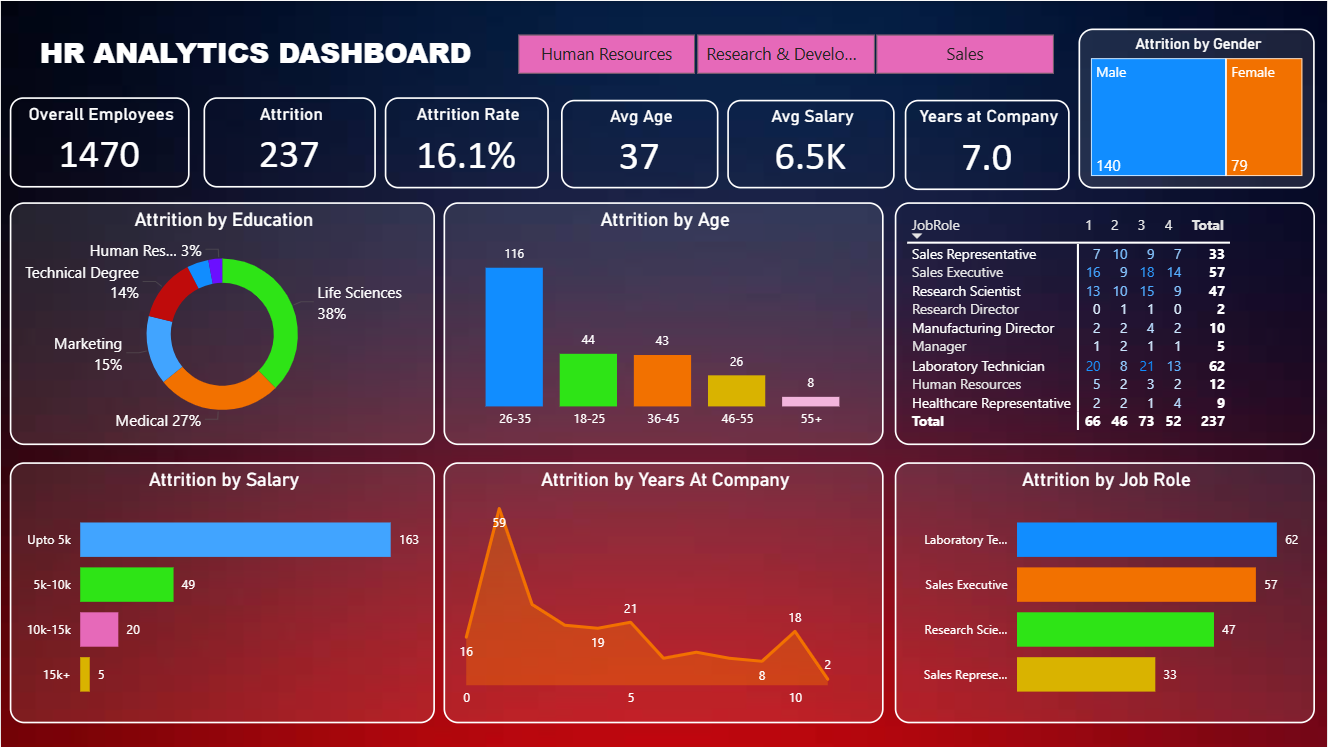

What the dashboard file says about the page in this screenshot:
{"tool":"powerbi","page":{"name":"Page 1","canvas":[1280,720],"ordinal":0},"visuals":[{"type":"card","title":"Overall Employees","fields":{"Values":["CountNonNull(HR_Analytics.EmpID)"]},"box":[8.4,92.9,173.7,86.9],"z":0},{"type":"card","title":"Attrition","fields":{"Values":["Sum(HR_Analytics.AttritionCount)"]},"box":[195.4,92.9,166.5,86.9],"z":1000},{"type":"card","title":"Attrition Rate","fields":{"Values":["HR_Analytics.AttritionRate"]},"box":[370.4,92.9,158,88.1],"z":2000},{"type":"card","title":"Avg Age","fields":{"Values":["Avg(HR_Analytics.Age)"]},"box":[540.5,95.3,152,85.7],"z":3000},{"type":"card","title":"Avg Salary","fields":{"Values":["Avg(HR_Analytics.MonthlyIncome)"]},"box":[700.9,95.3,161.7,85.7],"z":4000},{"type":"card","title":"Years at Company","fields":{"Values":["Avg(HR_Analytics.YearsAtCompany)"]},"box":[872.3,95.3,159.3,86.9],"z":5000},{"type":"pieChart","title":"Attrition by Education","fields":{"Category":["HR_Analytics.EducationField"],"Y":["Sum(HR_Analytics.AttritionCount)"]},"box":[8.4,194.2,410.2,234],"z":6000},{"type":"columnChart","title":"Attrition by Age","fields":{"Category":["HR_Analytics.AgeGroup"],"Y":["Sum(HR_Analytics.AttritionCount)"]},"box":[427.1,194.2,424.7,234],"z":7000},{"type":"pivotTable","fields":{"Rows":["HR_Analytics.JobRole"],"Columns":["HR_Analytics.JobSatisfaction"],"Values":["Sum(HR_Analytics.AttritionCount)"]},"box":[862.6,194.2,405.4,234],"z":8000},{"type":"barChart","title":"Attrition by Salary","fields":{"Category":["HR_Analytics.SalarySlab"],"Y":["Sum(HR_Analytics.AttritionCount)"]},"box":[8.4,445.2,410.2,252.1],"z":9000},{"type":"barChart","title":"Attrition by Job Role","fields":{"Category":["HR_Analytics.JobRole"],"Y":["Sum(HR_Analytics.AttritionCount)"]},"box":[862.6,445.2,405.4,252.1],"z":10000},{"type":"areaChart","title":"Attrition by Years At Company","fields":{"Category":["HR_Analytics.YearsAtCompany"],"Y":["Sum(HR_Analytics.AttritionCount)"]},"box":[427.1,445.2,424.7,252.1],"z":11000},{"type":"treemap","title":"Attrition by Gender","fields":{"Group":["HR_Analytics.Gender"],"Values":["Sum(HR_Analytics.AttritionCount)"]},"box":[1040,26.5,228,154.4],"z":12000},{"type":"slicer","fields":{"Values":["HR_Analytics.Department"]},"box":[472.9,25.3,567,51.9],"z":13000},{"type":"textbox","box":[8.4,25.3,474.1,51.9],"z":14000}]}

Visuals, with their boxes in screenshot pixels (x1, y1, x2, y2), scaled from the page's 1280x720 canvas onto the 1328x747 screenshot:
"Overall Employees" card: pyautogui.locateOnScreen(9, 96, 189, 187)
"Attrition" card: pyautogui.locateOnScreen(203, 96, 375, 187)
"Attrition Rate" card: pyautogui.locateOnScreen(384, 96, 548, 188)
"Avg Age" card: pyautogui.locateOnScreen(561, 99, 718, 188)
"Avg Salary" card: pyautogui.locateOnScreen(727, 99, 895, 188)
"Years at Company" card: pyautogui.locateOnScreen(905, 99, 1070, 189)
"Attrition by Education" pieChart: pyautogui.locateOnScreen(9, 201, 434, 444)
"Attrition by Age" columnChart: pyautogui.locateOnScreen(443, 201, 884, 444)
pivotTable - HR_Analytics.JobRole x HR_Analytics.JobSatisfaction: pyautogui.locateOnScreen(895, 201, 1316, 444)
"Attrition by Salary" barChart: pyautogui.locateOnScreen(9, 462, 434, 723)
"Attrition by Job Role" barChart: pyautogui.locateOnScreen(895, 462, 1316, 723)
"Attrition by Years At Company" areaChart: pyautogui.locateOnScreen(443, 462, 884, 723)
"Attrition by Gender" treemap: pyautogui.locateOnScreen(1079, 27, 1316, 188)
slicer - HR_Analytics.Department: pyautogui.locateOnScreen(491, 26, 1079, 80)
textbox: pyautogui.locateOnScreen(9, 26, 501, 80)
